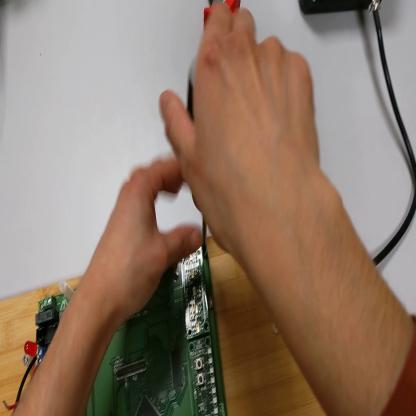hand: (158, 1, 325, 259), (94, 157, 200, 323)
low voltage board: (6, 246, 229, 416)
pliers: (204, 3, 214, 31)
screwdriver-: (189, 62, 210, 260)
welder station: (301, 3, 378, 22)
working area: (1, 237, 326, 416)
